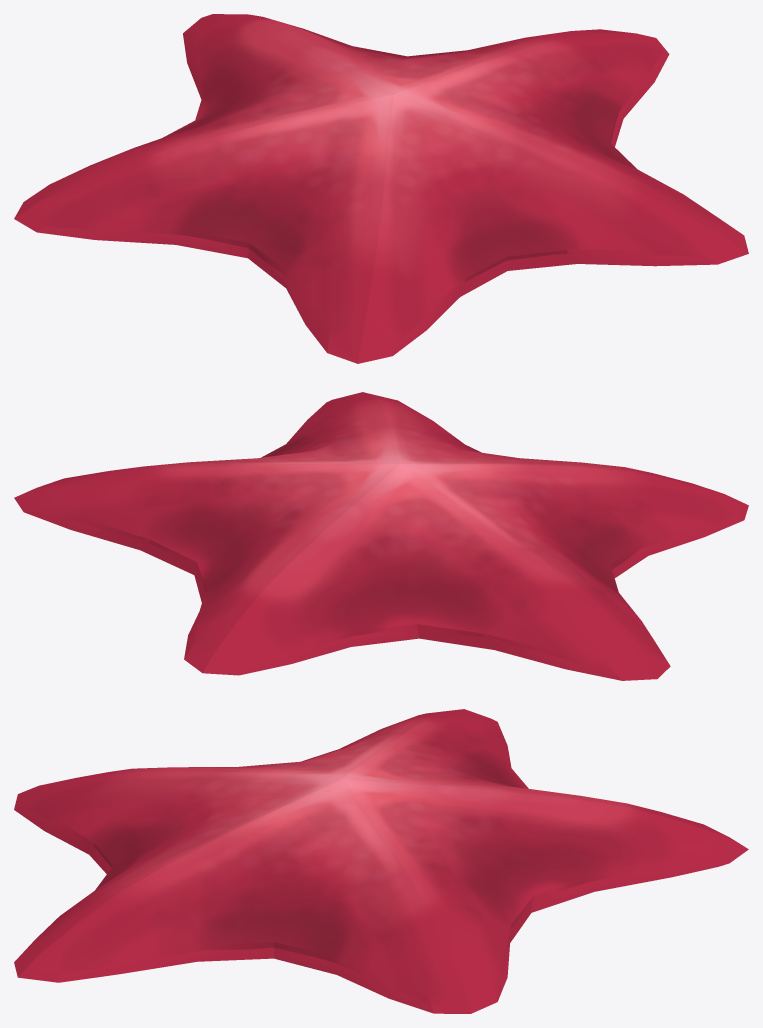
Rendered from Beach_Starfish.glb.
3 renders of one model, top to bottom at view 1: azimuth 30°, elevation 25°; view 2: azimuth 150°, elevation 25°; view 3: azimuth 270°, elevation 25°, orthographic. The views are drawn at different scales.
Visible parts, largest first — view 1: Star.001; view 2: Star.001; view 3: Star.001.
Boxes of the visible parts, x1,y1,x2,y2 form: Star.001: (14,14,748,363); Star.001: (14,392,748,680); Star.001: (14,709,748,1013).
Bounding box in the file's own units: 26.22 × 4.4 × 24.94.
Materials: 1 (1 with a texture image).
